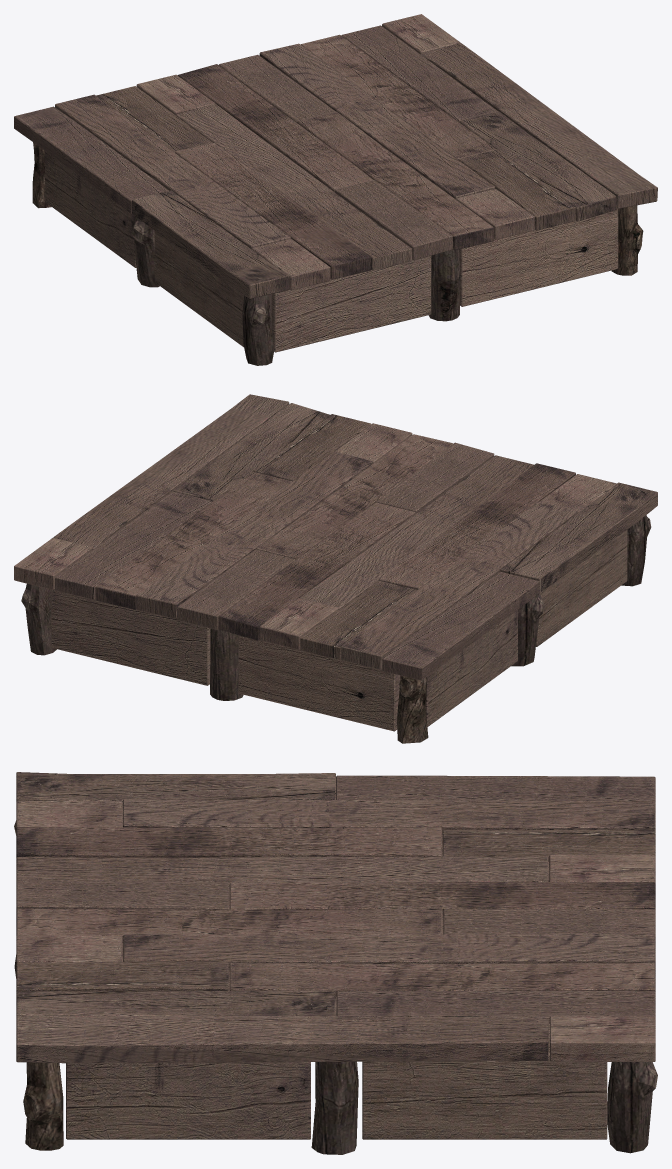
Rendered from WoodGround_1.fbx.
3 views of the same model, one above another, from view 1: azimuth 30°, elevation 25°; view 2: azimuth 150°, elevation 25°; view 3: azimuth 270°, elevation 25° (orthographic). The views are drawn at different scales.
Visible parts, largest first — view 1: 3D_WoodGround.mo; view 2: 3D_WoodGround.mo; view 3: 3D_WoodGround.mo.
Part boxes in pixels (left/top/right/bottom): 3D_WoodGround.mo: left=14, top=14, right=657, bottom=365; 3D_WoodGround.mo: left=14, top=394, right=657, bottom=743; 3D_WoodGround.mo: left=14, top=772, right=657, bottom=1154.
Bounding box in the file's own units: 300 × 61.16 × 302.
Materials: 1 (1 with a texture image).
